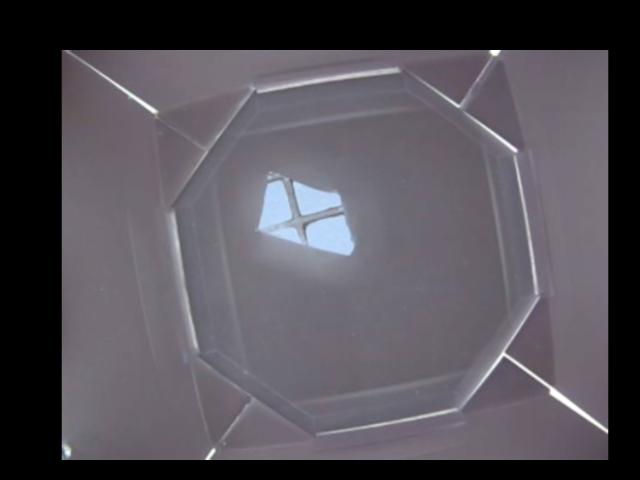China: (257, 169, 356, 256)
